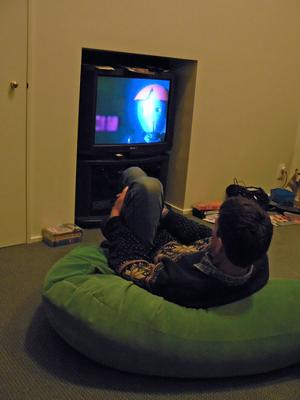person: (104, 165, 273, 310)
